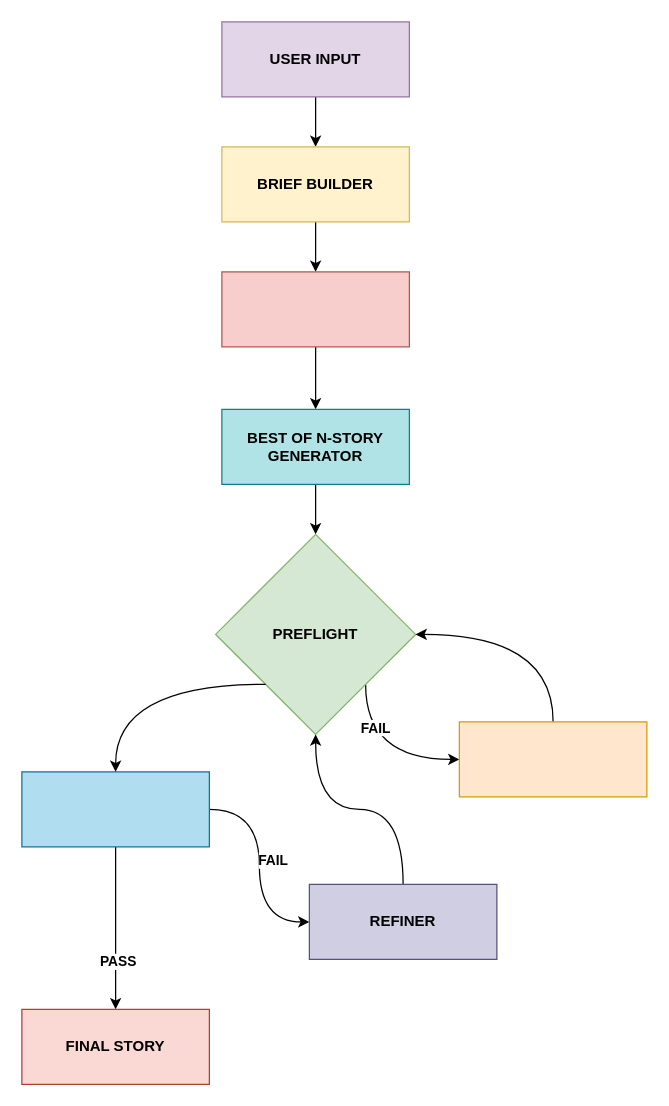
This 669x1106 diagram has some shape labels left out. Here are the shapes that lost their labels. From the top down, the centre of each, then its label:
(x=315, y=309): STORY PLANNER
(x=552, y=759): QUICK FIX
(x=115, y=809): JUDGE
